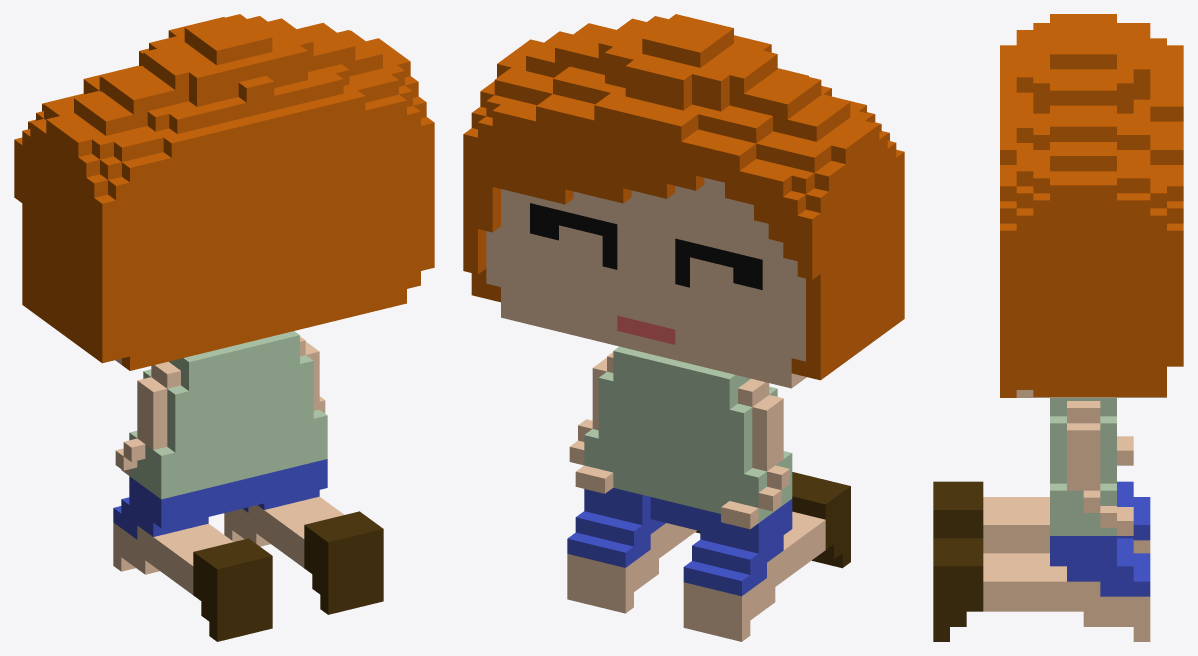
Rendered from kneeling.obj.
3 views of the same model, side by side, from view 1: azimuth 30°, elevation 25°; view 2: azimuth 150°, elevation 25°; view 3: azimuth 270°, elevation 25° (orthographic). The views are drawn at different scales.
Visible parts, largest first — view 1: kneeling; view 2: kneeling; view 3: kneeling.
Part boxes in pixels (x1,y1,x2,y2): kneeling: (14, 14, 434, 641); kneeling: (463, 14, 904, 641); kneeling: (933, 14, 1183, 641).
Bounding box in the file's own units: 24 × 37 × 15.
